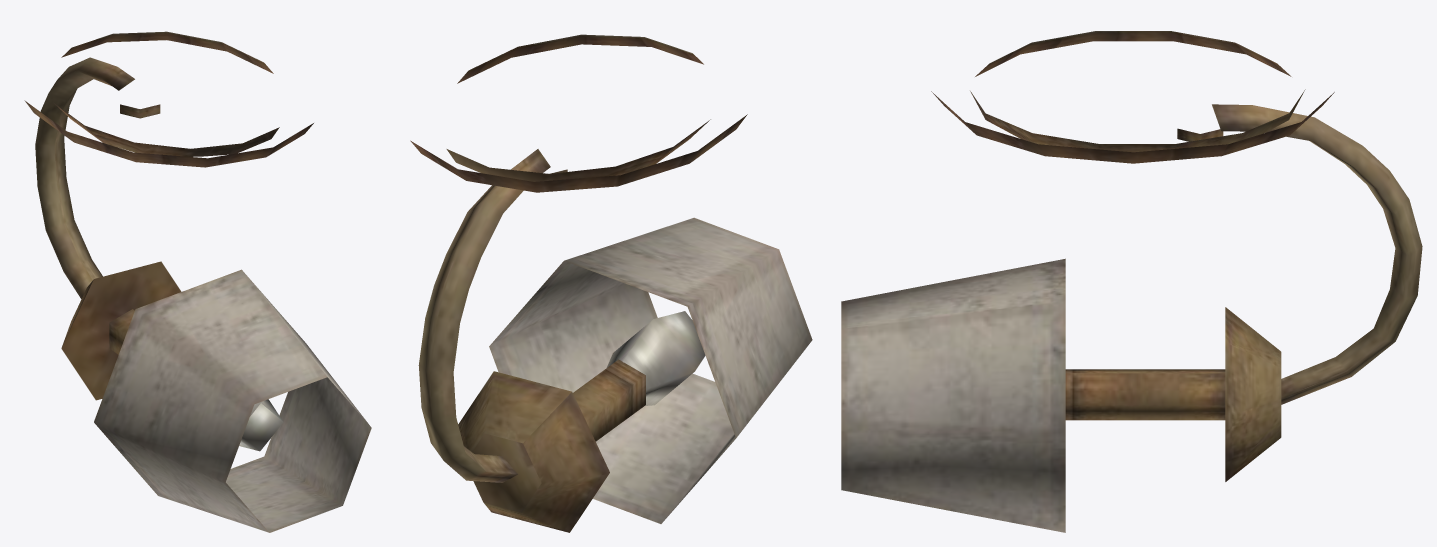
Rendered from light_walllight_off.glb.
The picture shows the model from 3 angles, left to right: view 1: azimuth 30°, elevation 25°; view 2: azimuth 150°, elevation 25°; view 3: azimuth 270°, elevation 25°; orthographic projection. The views are drawn at different scales.
Size of the model in its own units: 11.03 by 15.98 by 19.57.
Materials: 1 (1 with a texture image).
